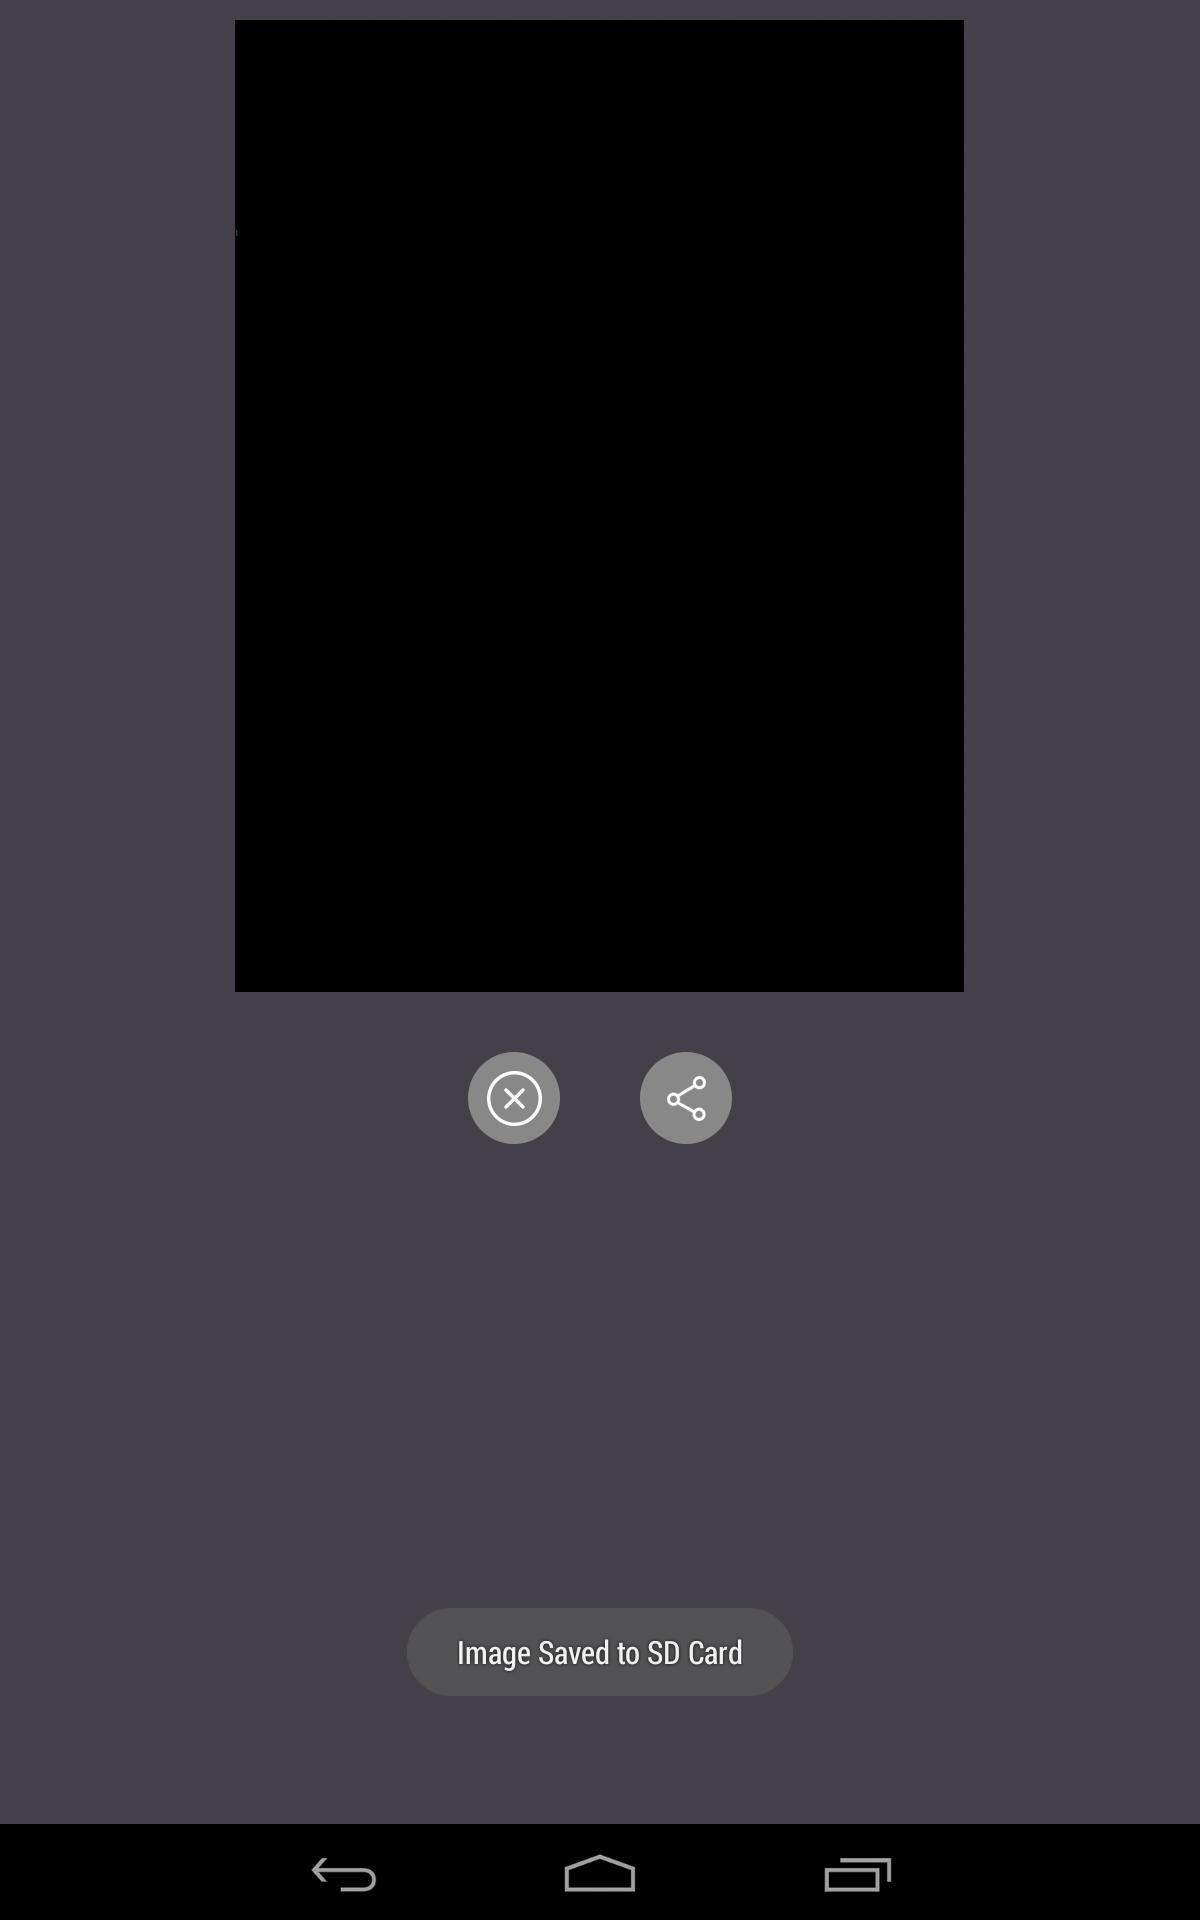android.widget.FrameLayout: (0, 0, 1200, 1825)
android.widget.ImageButton: (469, 1052, 560, 1145), (640, 1052, 731, 1145)
android.widget.ImageView: (235, 19, 964, 992)
android.widget.LinearLayout: (0, 0, 1200, 1825), (0, 1012, 1200, 1185)
android.widget.RelativeLayout: (0, 0, 1200, 1825)
